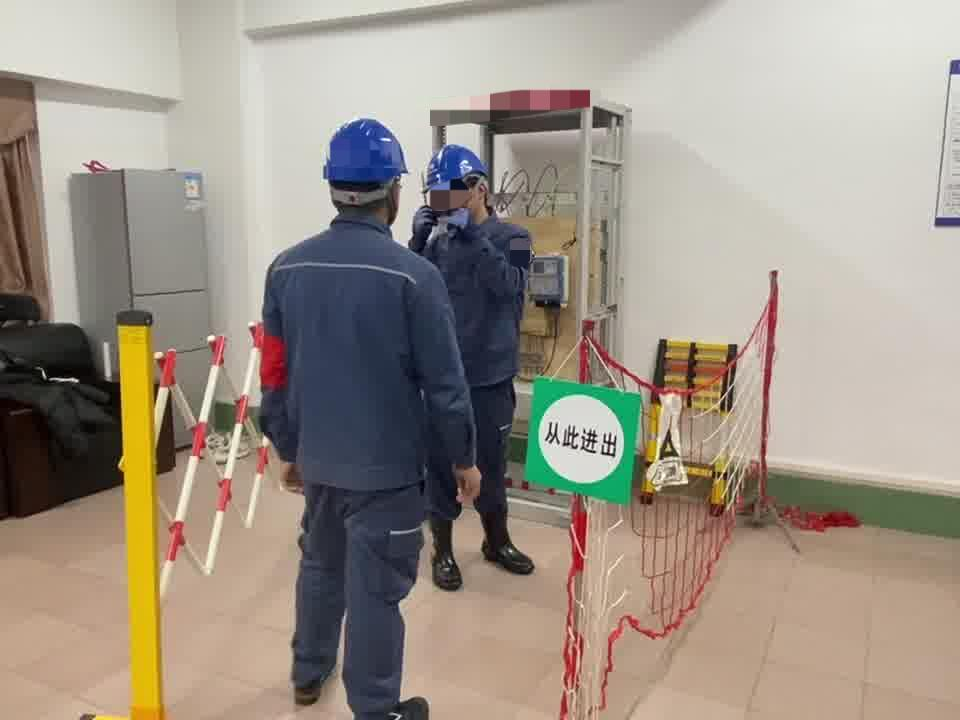halt: (325, 118, 410, 220), (428, 147, 494, 218)
